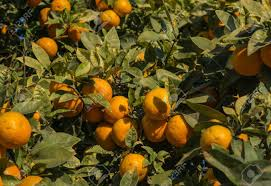orange: (1, 109, 34, 147), (198, 120, 233, 154), (78, 74, 114, 104), (164, 110, 194, 145), (144, 88, 175, 117), (136, 112, 167, 141), (116, 152, 150, 178), (109, 117, 139, 145), (105, 92, 136, 119), (33, 36, 59, 58), (100, 10, 120, 28)
